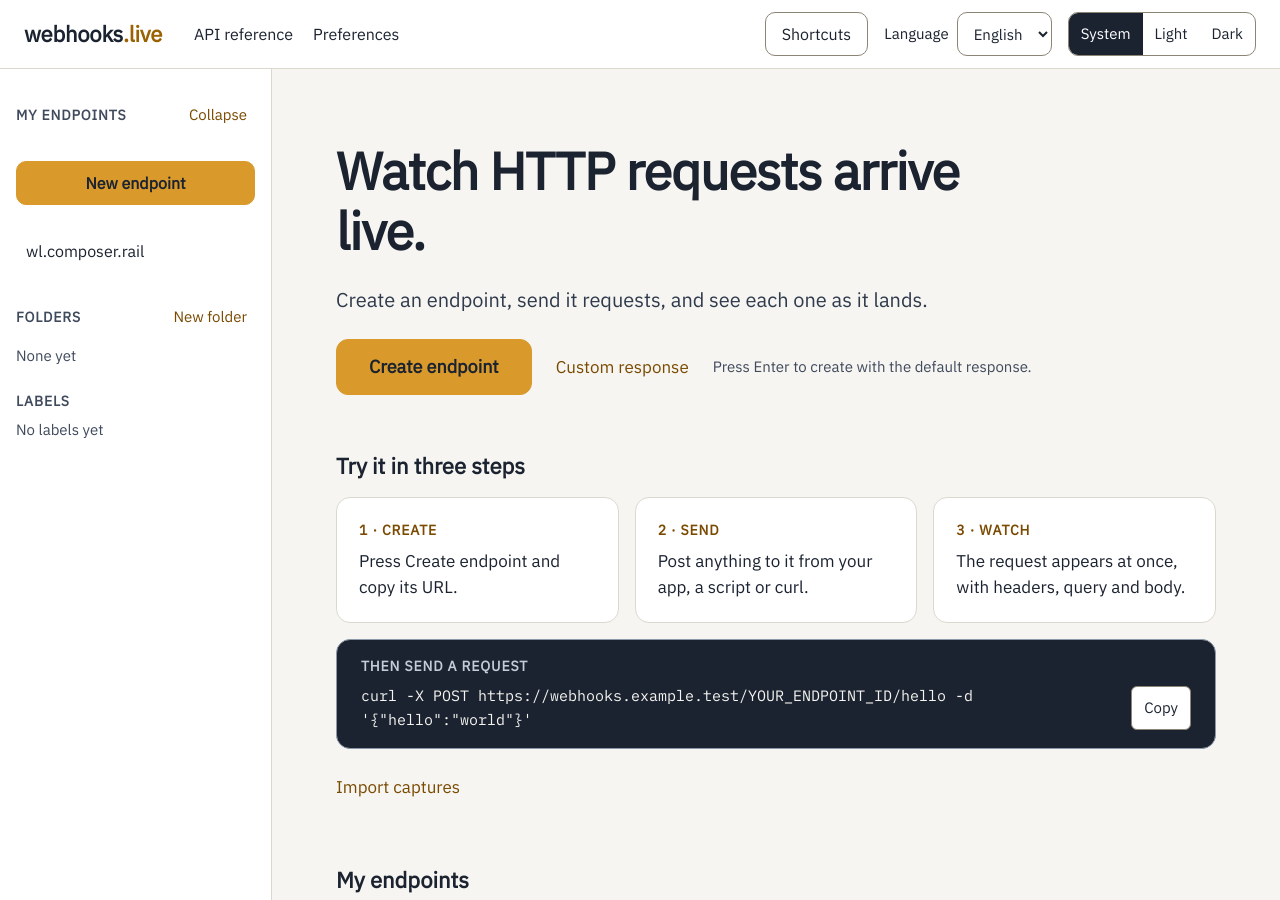
it: home screen › maps a server field error onto the header row it names and moves focus there
This screenshot has width=1280, height=900.
Expected: the heading "Watch HTTP requests arrive live." is shown, left=336, top=141, right=960, bottom=261
Click the button "Custom response" at x=622, y=367, box left=556, top=345, right=689, bottom=389
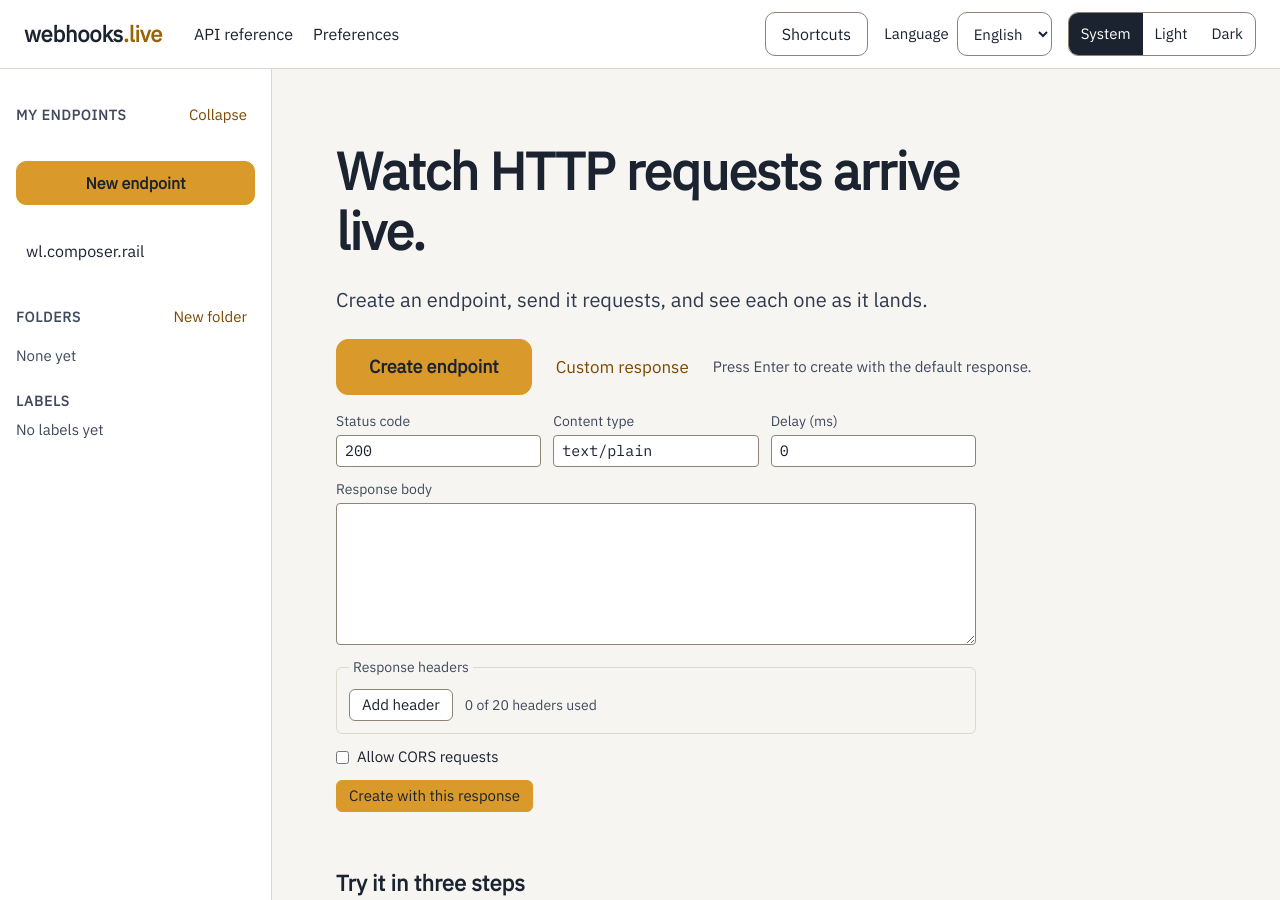
Click the button "Add header" at x=401, y=705, box left=349, top=689, right=453, bottom=721
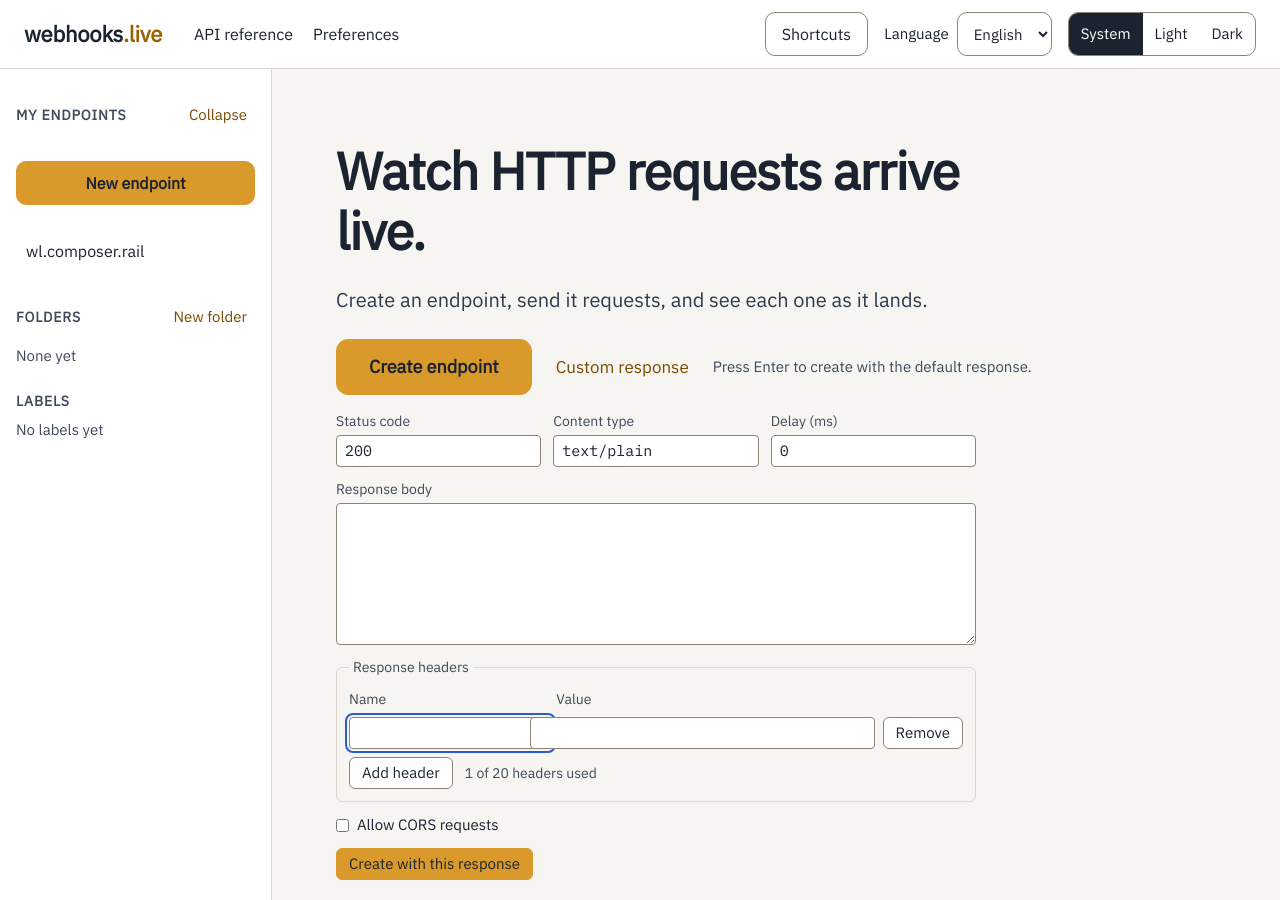
Type "X-Reply" into the field named "Header 1 name" at x=450, y=733, box left=349, top=717, right=552, bottom=749
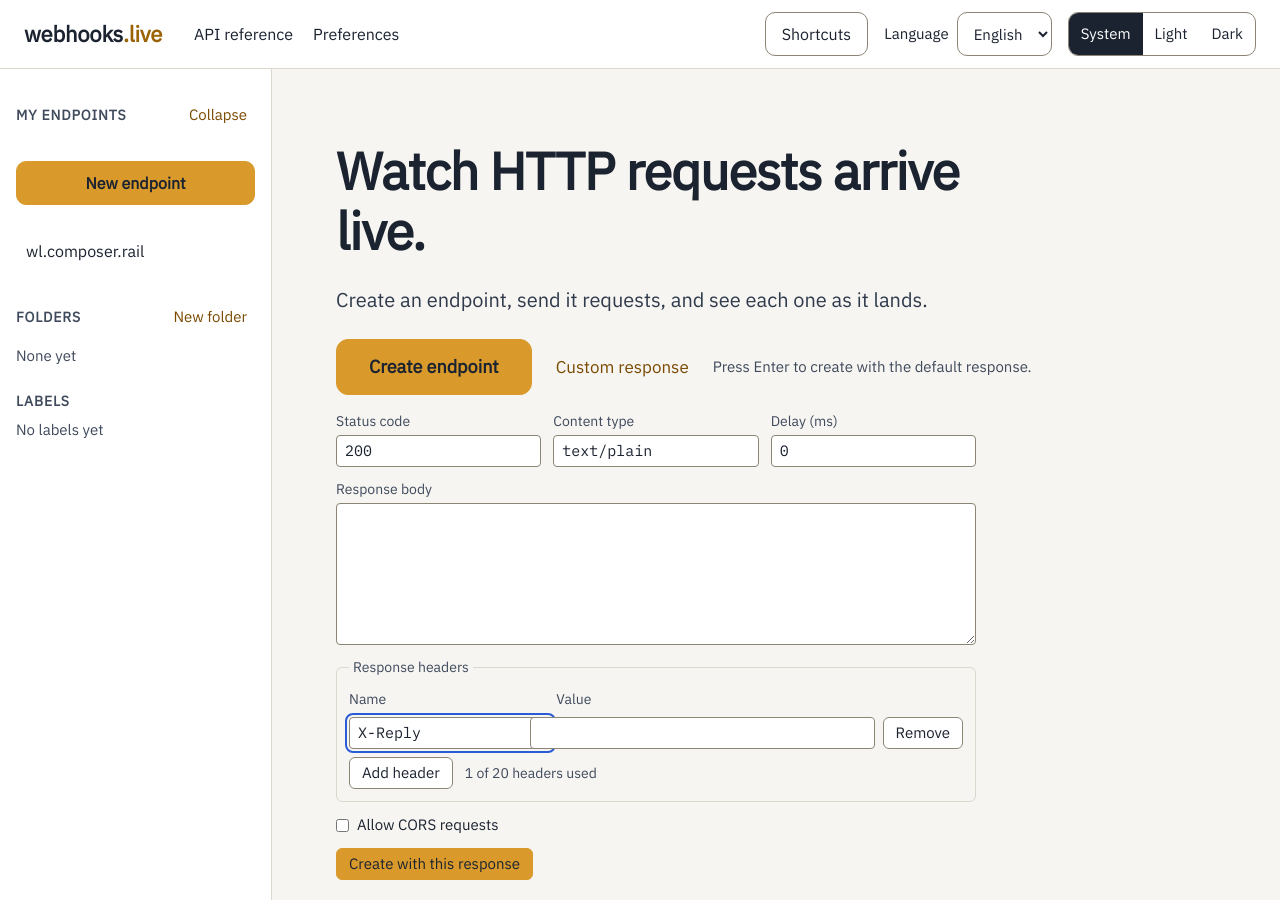
Click the button "Create with this response" at x=435, y=864, box left=336, top=848, right=533, bottom=880
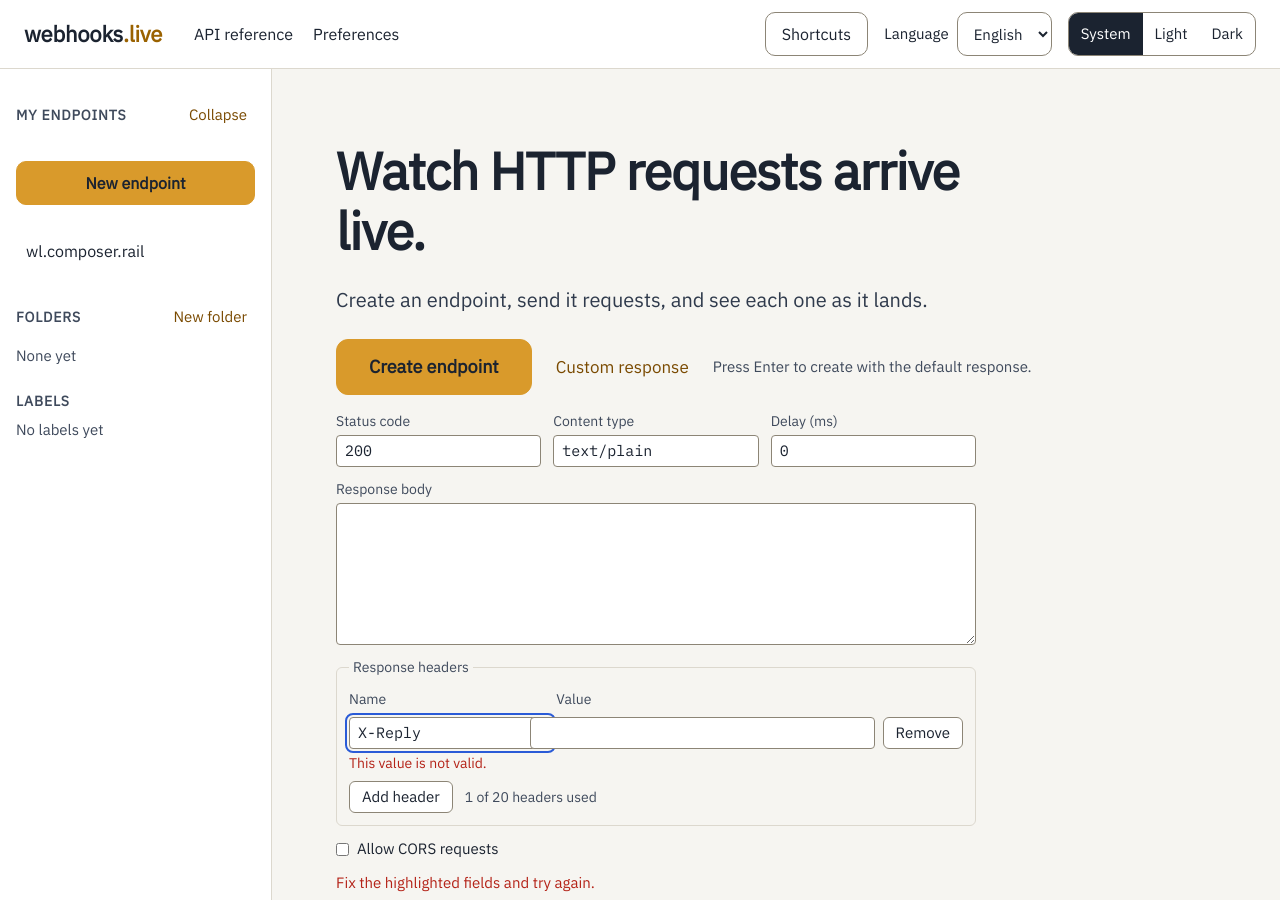
Expected: the text "This value is not valid." is shown, left=349, top=754, right=487, bottom=772
